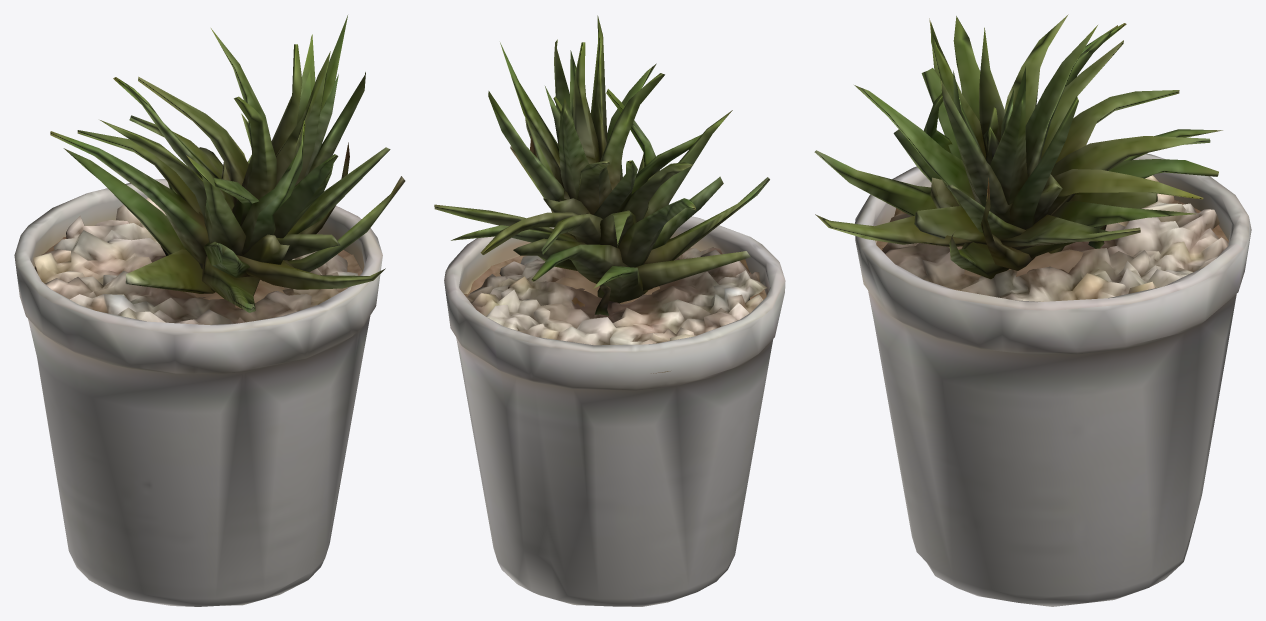
File: potted_plant_04.glb
3 renders of one model, left to right at view 1: azimuth 30°, elevation 25°; view 2: azimuth 150°, elevation 25°; view 3: azimuth 270°, elevation 25°, orthographic. The views are drawn at different scales.
Parts seen in each view (by area): view 1: potted_plant_04_ground; view 2: potted_plant_04_ground; view 3: potted_plant_04_ground.
Part boxes in pixels (x1=…): potted_plant_04_ground: x1=14, y1=15, x2=405, y2=606; potted_plant_04_ground: x1=434, y1=15, x2=785, y2=606; potted_plant_04_ground: x1=814, y1=14, x2=1251, y2=606.
Bounding box in the file's own units: 0.1672 × 0.2672 × 0.1845.
Materials: 1 (1 with a texture image).
